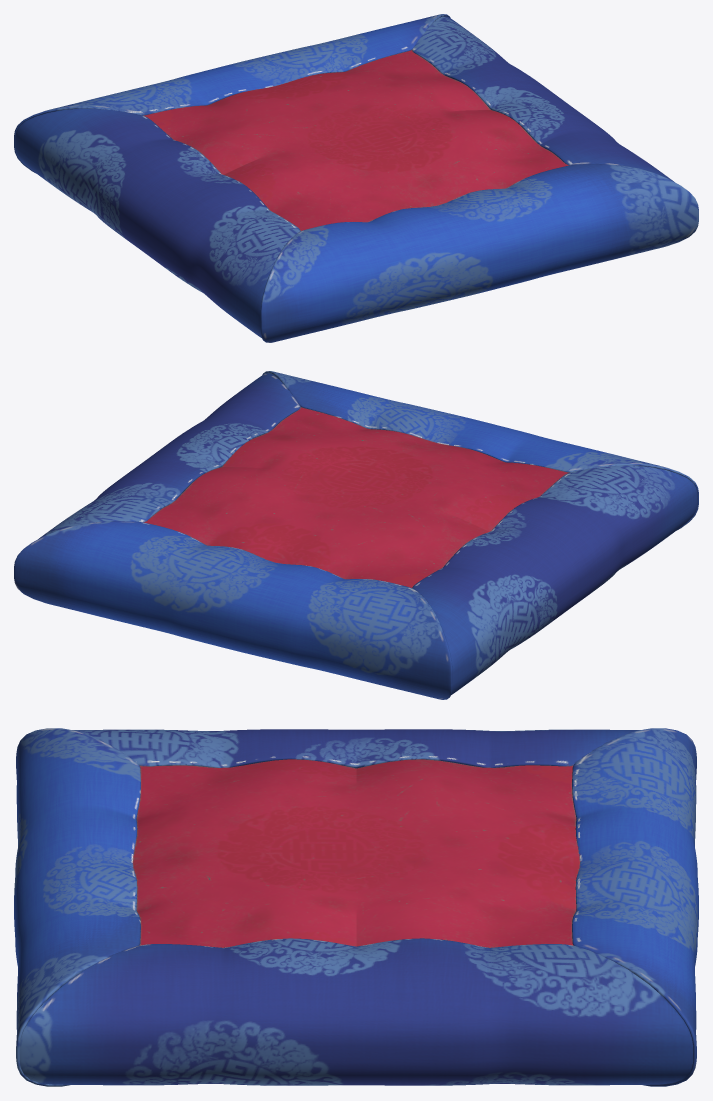
The model's file is SM_FloorCusion.fbx.
The picture shows the model from 3 angles, top to bottom: view 1: azimuth 30°, elevation 25°; view 2: azimuth 150°, elevation 25°; view 3: azimuth 270°, elevation 25°; orthographic projection. The views are drawn at different scales.
Parts seen in each view (by area): view 1: SM_FloorCusion; view 2: SM_FloorCusion; view 3: SM_FloorCusion.
Part boxes in pixels (<box>): SM_FloorCusion: <box>14,14,698,342</box>; SM_FloorCusion: <box>14,371,698,699</box>; SM_FloorCusion: <box>14,728,698,1086</box>.
Bounding box in the file's own units: 58.92 × 12.73 × 58.19.
Materials: 1 (1 with a texture image).
